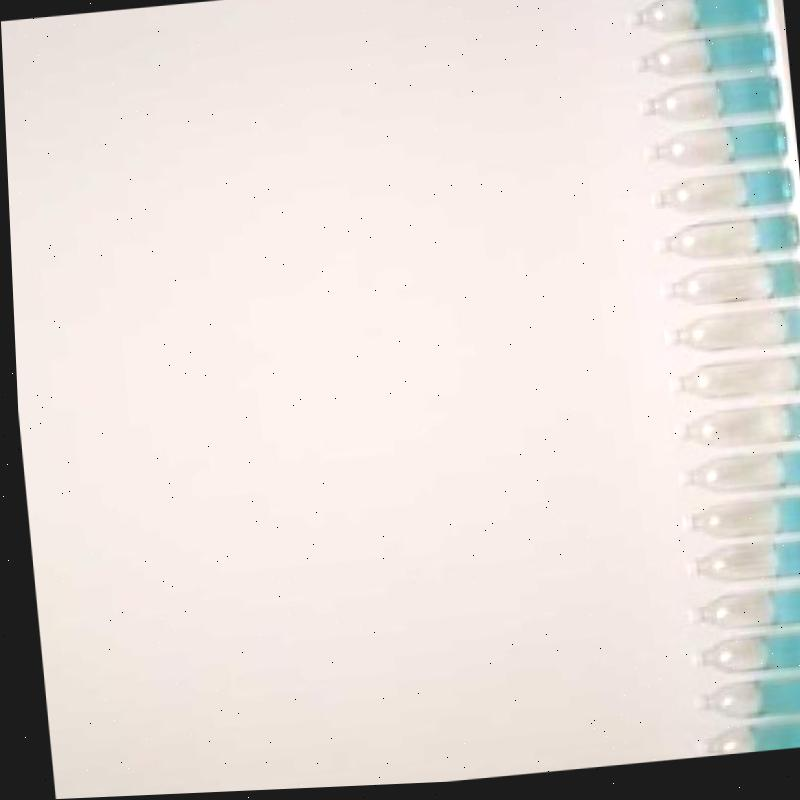botella: (648, 171, 793, 224), (643, 126, 788, 179), (653, 220, 797, 273), (657, 264, 800, 317), (661, 311, 800, 364), (640, 81, 782, 131), (668, 407, 800, 460), (634, 36, 775, 85), (665, 359, 800, 409), (674, 454, 800, 504), (626, 0, 771, 41), (682, 590, 800, 640), (677, 501, 800, 548), (681, 636, 800, 684), (679, 543, 800, 590), (688, 679, 800, 729), (690, 720, 800, 763), (619, 0, 763, 0)
